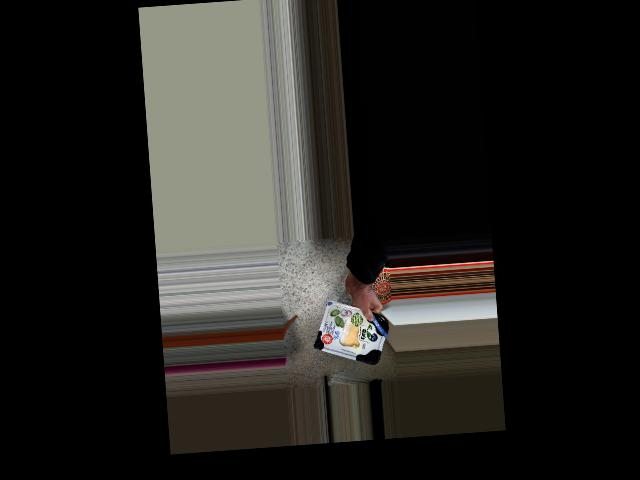cheese: (318, 303, 382, 355)
